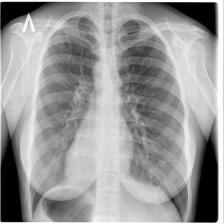tuberculosis: (23, 8, 194, 223)
